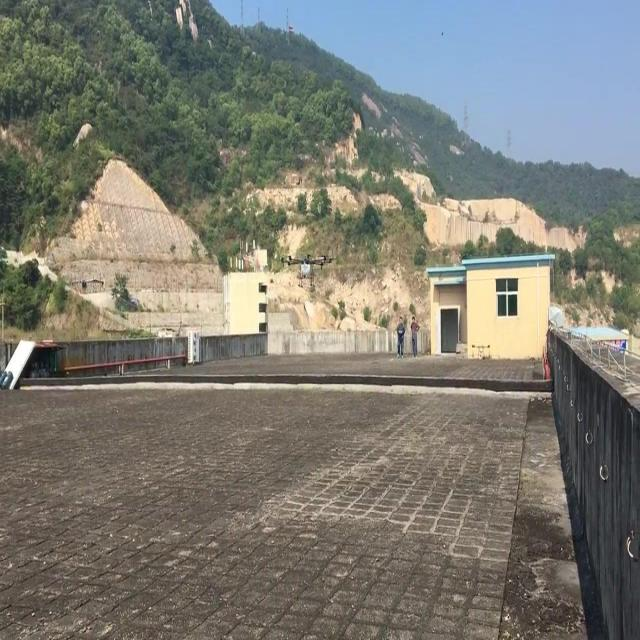UAV: (281, 254, 337, 288)
